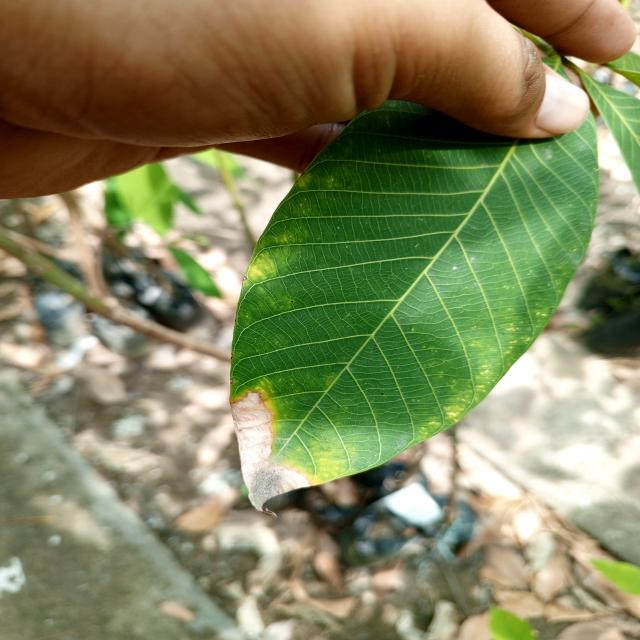Colletotrichum: (243, 276, 247, 280), (231, 353, 234, 358), (230, 378, 233, 383), (291, 300, 293, 302)
Leaf-Blight: (229, 390, 312, 518)
